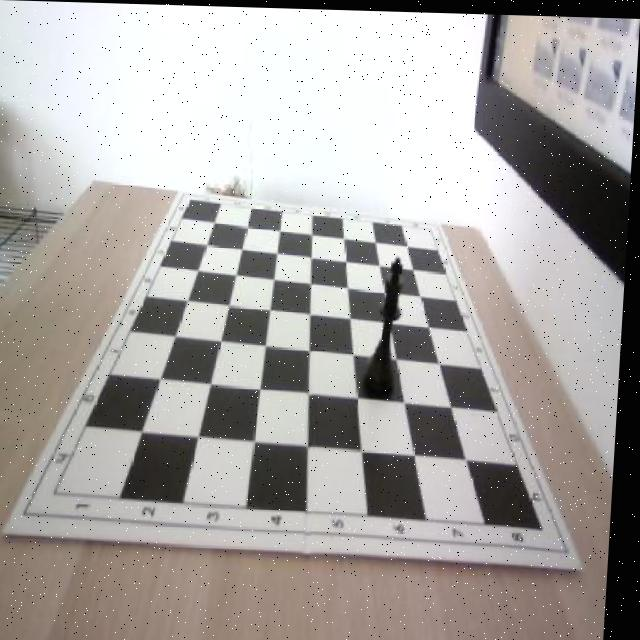black-bishop: (366, 252, 410, 398)
